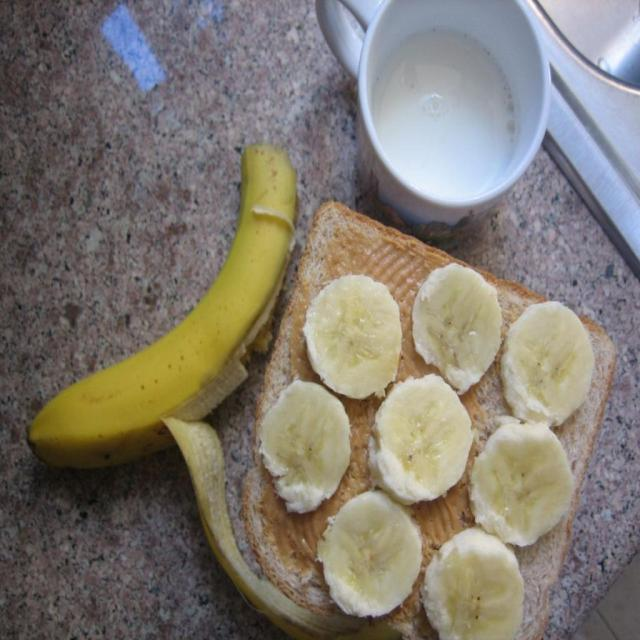Banana: (22, 142, 309, 480)
